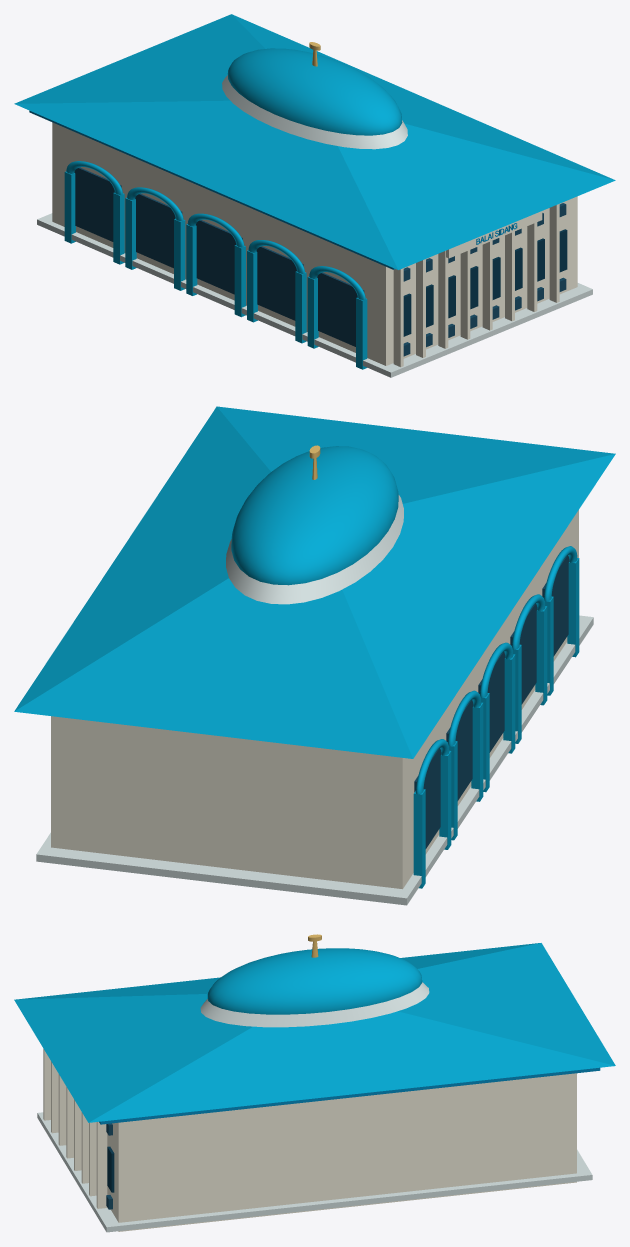
The model's file is balai-sidang.glb.
3 views of the same model, one above another, from view 1: azimuth 30°, elevation 25°; view 2: azimuth 150°, elevation 25°; view 3: azimuth 270°, elevation 25° (orthographic). The views are drawn at different scales.
Visible parts, largest first — view 1: Balai_Sidang_roof, Balai_Sidang_ivory, Balai_Sidang_glass, Balai_Sidang_trim, Balai_Sidang_darkglass, Balai_Sidang_blue; view 2: Balai_Sidang_roof, Balai_Sidang_ivory, Balai_Sidang_trim, Balai_Sidang_glass; view 3: Balai_Sidang_roof, Balai_Sidang_ivory, Balai_Sidang_trim, Balai_Sidang_blue.
Boxes of the visible parts, <box> form: Balai_Sidang_roof: <box>14,14,615,369</box>; Balai_Sidang_ivory: <box>52,122,577,367</box>; Balai_Sidang_glass: <box>74,167,566,356</box>; Balai_Sidang_trim: <box>37,75,592,377</box>; Balai_Sidang_darkglass: <box>403,229,567,336</box>; Balai_Sidang_blue: <box>29,110,517,269</box>; Balai_Sidang_roof: <box>14,406,615,888</box>; Balai_Sidang_ivory: <box>51,510,578,889</box>; Balai_Sidang_trim: <box>36,495,593,905</box>; Balai_Sidang_glass: <box>414,555,569,848</box>; Balai_Sidang_roof: <box>14,943,615,1122</box>; Balai_Sidang_ivory: <box>43,1049,576,1231</box>; Balai_Sidang_trim: <box>37,982,592,1232</box>; Balai_Sidang_blue: <box>99,1067,600,1124</box>.
Size of the model in its own units: 59.5 by 33.4 by 84.03.
